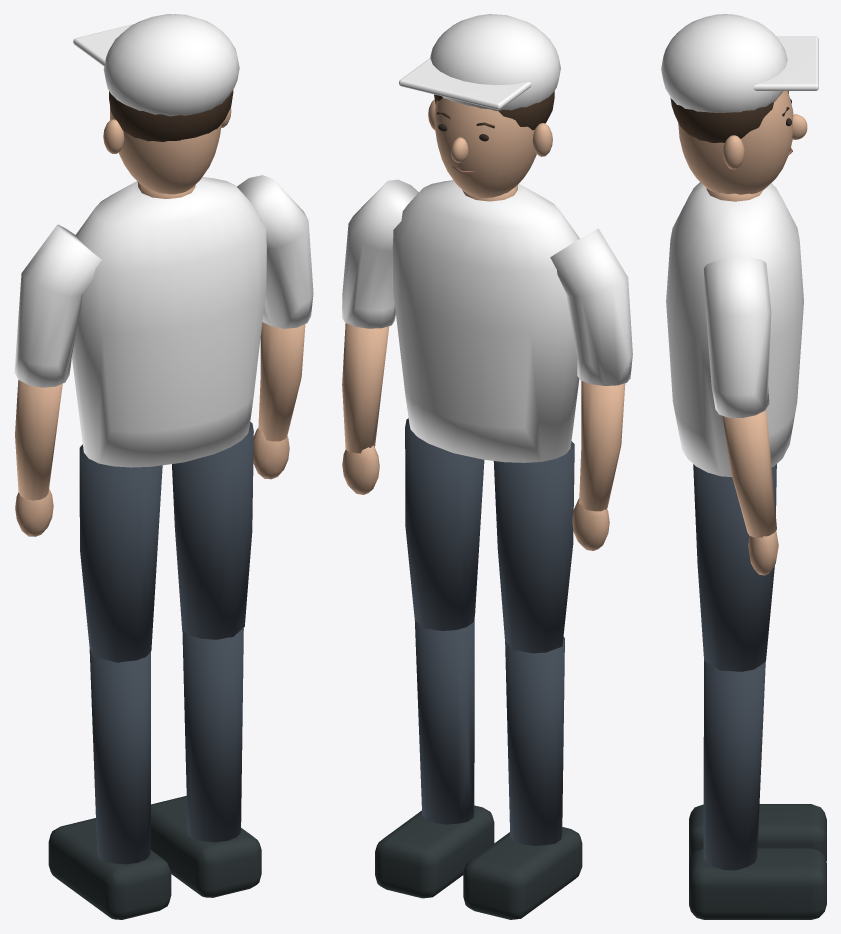
The model's file is owner.glb.
The picture shows the model from 3 angles, left to right: view 1: azimuth 30°, elevation 25°; view 2: azimuth 150°, elevation 25°; view 3: azimuth 270°, elevation 25°; orthographic projection. The views are drawn at different scales.
Visible parts, largest first — view 1: ShirtTorso, Knee_L, Knee_R, Arm_L, Leg_L, Leg_R, Arm_R, CapCrown, Head, Hair, CapBrim; view 2: ShirtTorso, Knee_L, Knee_R, Arm_L, Leg_L, Arm_R, Leg_R, CapCrown, Head, CapBrim, Hair; view 3: ShirtTorso, Knee_R, Arm_R, Leg_R, CapCrown, Head, Knee_L, Hair, CapBrim, Ear_R.
Boxes of the visible parts, bbox=[...] form: ShirtTorso: bbox=[72, 177, 266, 467]; Knee_L: bbox=[48, 649, 171, 919]; Knee_R: bbox=[150, 628, 261, 897]; Arm_L: bbox=[14, 224, 101, 536]; Leg_L: bbox=[79, 444, 162, 662]; Leg_R: bbox=[172, 422, 253, 639]; Arm_R: bbox=[237, 175, 313, 479]; CapCrown: bbox=[103, 14, 239, 116]; Head: bbox=[110, 106, 221, 198]; Hair: bbox=[109, 90, 233, 141]; CapBrim: bbox=[73, 14, 175, 66]; ShirtTorso: bbox=[392, 180, 579, 462]; Knee_L: bbox=[463, 637, 582, 919]; Knee_R: bbox=[375, 619, 494, 898]; Arm_L: bbox=[550, 228, 632, 550]; Leg_L: bbox=[493, 441, 574, 653]; Arm_R: bbox=[342, 179, 418, 494]; Leg_R: bbox=[405, 418, 484, 630]; CapCrown: bbox=[430, 14, 560, 111]; Head: bbox=[434, 98, 536, 201]; CapBrim: bbox=[399, 58, 531, 109]; Hair: bbox=[434, 91, 554, 130]; ShirtTorso: bbox=[666, 182, 803, 476]; Knee_R: bbox=[689, 661, 826, 919]; Arm_R: bbox=[703, 257, 778, 575]; Leg_R: bbox=[693, 464, 776, 671]; CapCrown: bbox=[661, 14, 787, 112]; Head: bbox=[678, 91, 793, 201]; Knee_L: bbox=[689, 661, 826, 861]; Hair: bbox=[670, 97, 773, 142]; CapBrim: bbox=[753, 36, 818, 90]; Ear_R: bbox=[723, 135, 744, 169].
Bounding box in the file's own units: 0.5395 × 1.55 × 0.269.
